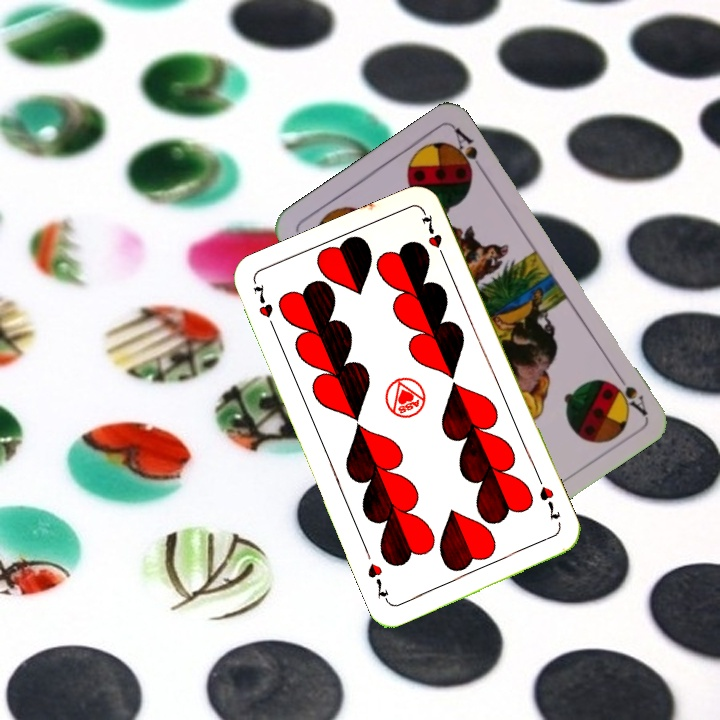H7: (249, 279, 279, 335), (535, 482, 563, 522)
SA: (608, 366, 650, 418)
